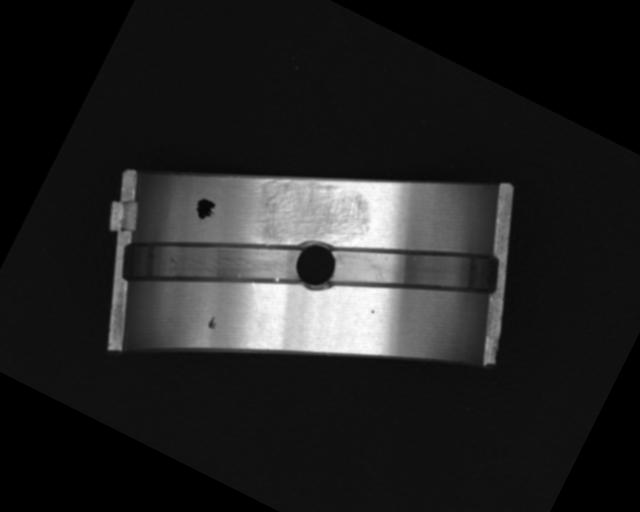blot: (191, 195, 219, 223)
bruise: (203, 313, 220, 333), (369, 308, 376, 315)
gap: (110, 176, 311, 348), (321, 190, 512, 351)
hole: (280, 231, 349, 301)
nick: (235, 281, 275, 326)
scratch: (238, 150, 384, 278)
